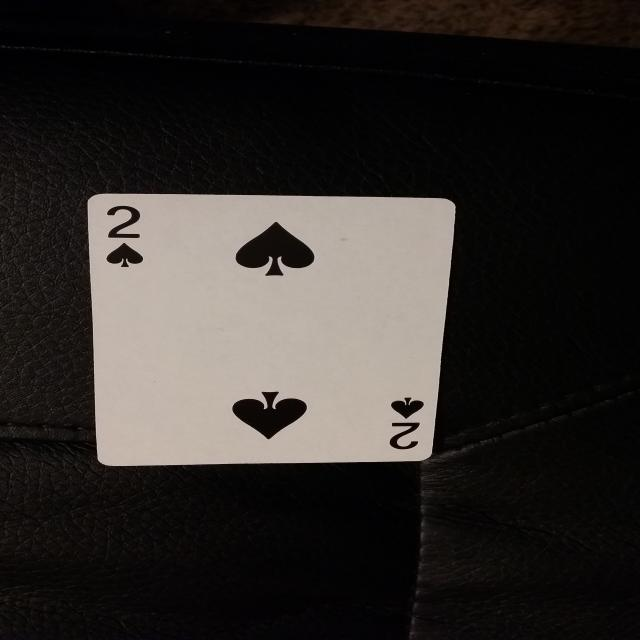2s: (98, 201, 151, 271), (384, 395, 428, 453)
